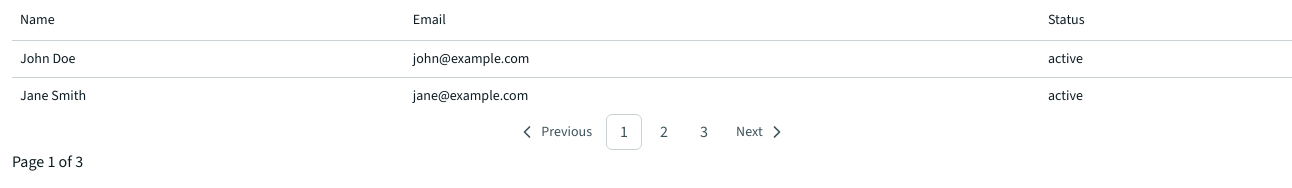
it: Data Display Integration › Paginated Table › navigates to specific page
The image size is (1292, 188).
Click the link "3" at (704, 131), box [700, 120, 708, 142]
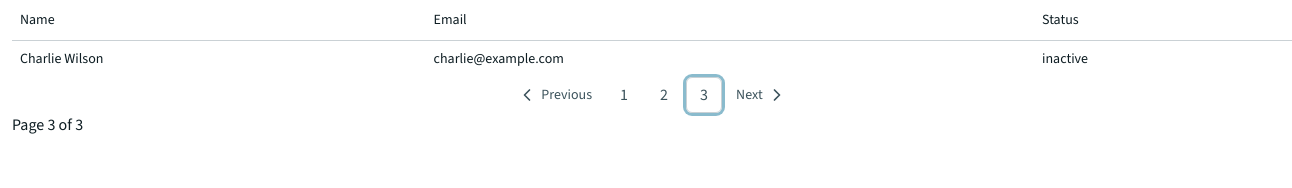
Result: the text "Charlie Wilson" is shown at [12, 40, 426, 76]
Result: the text with test id "page-info" reads "Page 3 of 3" at [12, 114, 83, 134]
